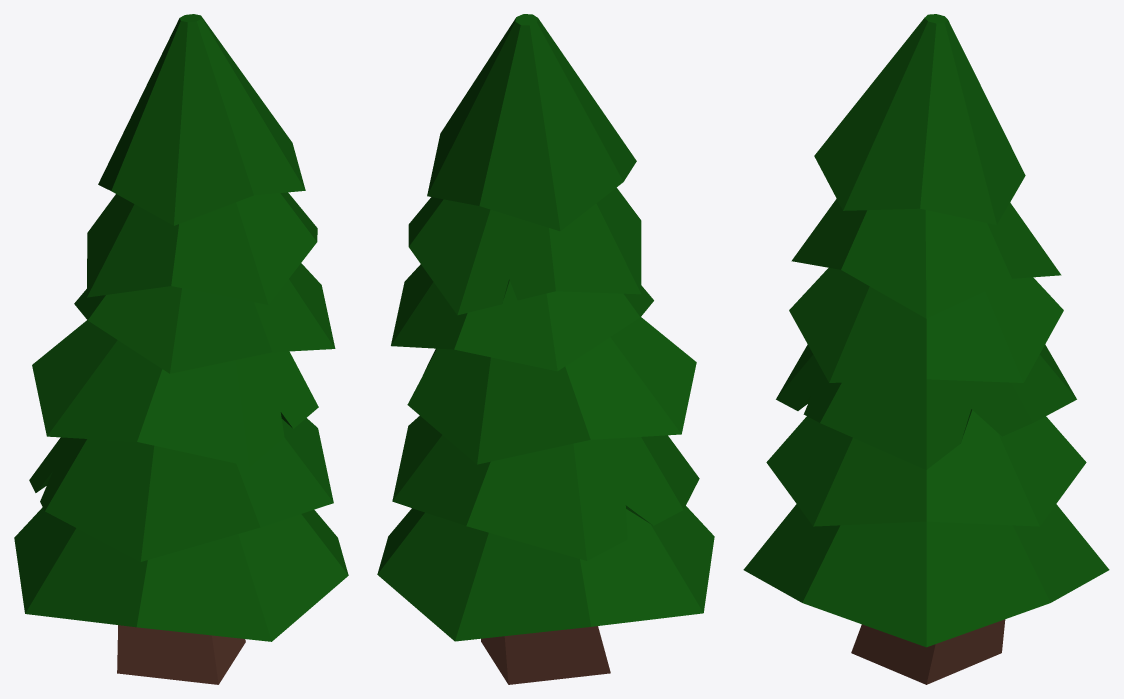
The model's file is Tree4.fbx.
3 renders of one model, left to right at view 1: azimuth 30°, elevation 25°; view 2: azimuth 150°, elevation 25°; view 3: azimuth 270°, elevation 25°, orthographic.
Visible parts, largest first — view 1: Needles4, Trunk4; view 2: Needles4, Trunk4; view 3: Needles4, Trunk4.
Boxes of the visible parts, bbox=[...] form: Needles4: bbox=[14, 14, 348, 641]; Trunk4: bbox=[117, 625, 245, 684]; Needles4: bbox=[377, 14, 714, 641]; Trunk4: bbox=[481, 626, 610, 684]; Needles4: bbox=[743, 14, 1109, 647]; Trunk4: bbox=[851, 619, 1005, 684].
Bounding box in the file's own units: 486 × 940 × 486.
